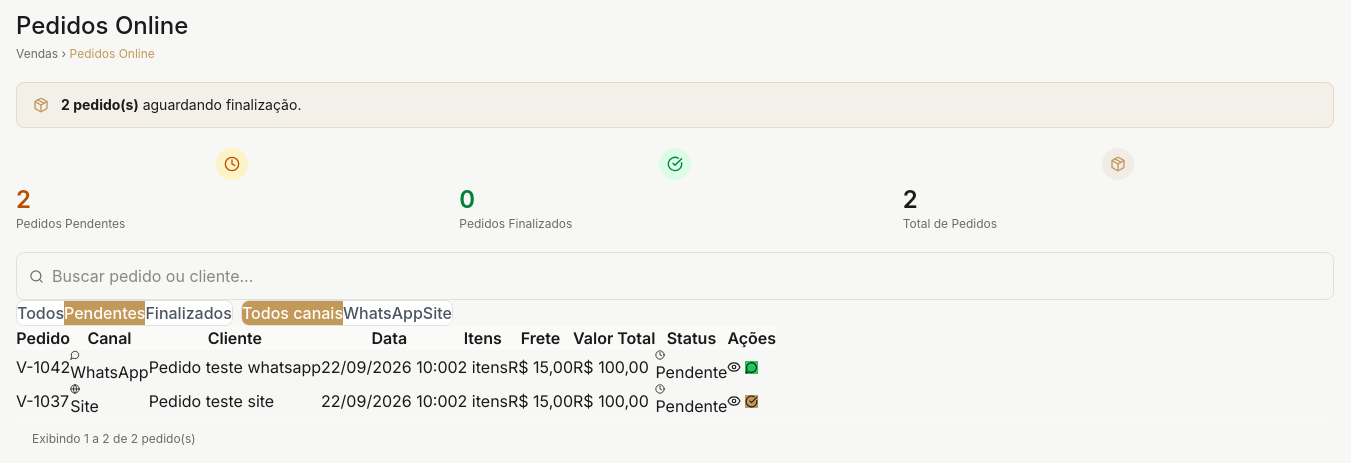
Test: OnlineOrders › permite ao funcionario finalizar site sem cancelar ou desfazer
This screenshot has width=1351, height=463.
Expected: the row "Pedido teste whatsapp" is shown, [16, 350, 776, 384]
Click the button named "Finalizar" in the row of "V-1037": (752, 401) [745, 394, 758, 408]
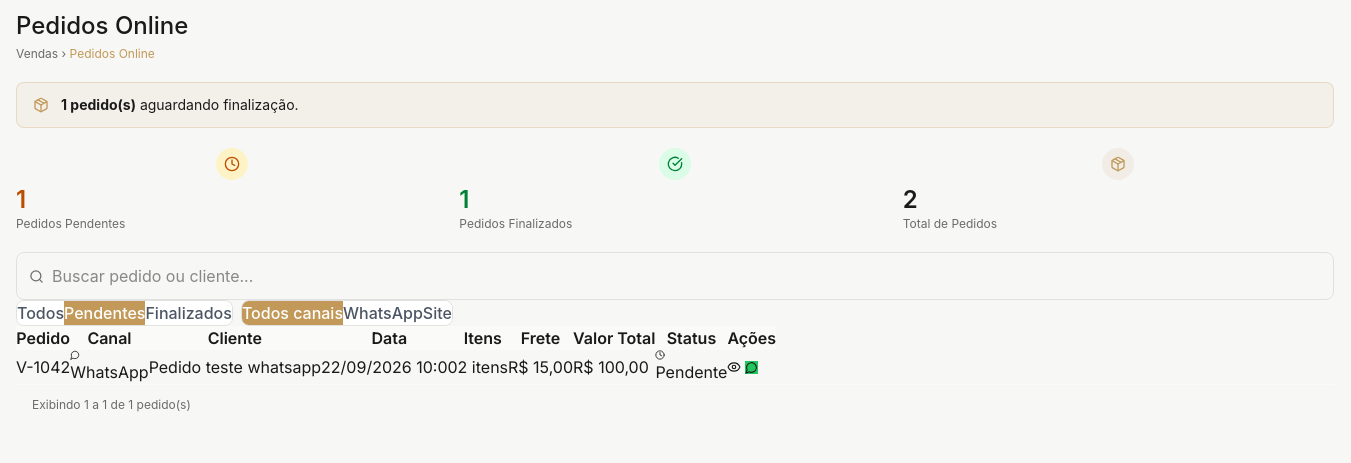
Click the button "Finalizados": (189, 313) [145, 301, 232, 325]
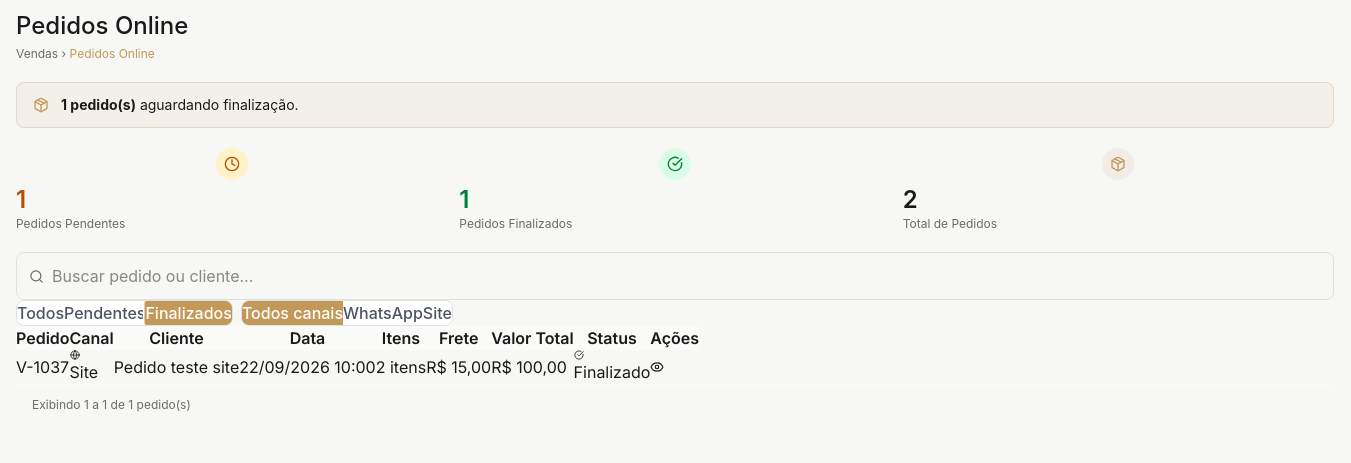
Result: the row "Pedido teste site" shows "Finalizado" at [574, 362, 650, 382]
